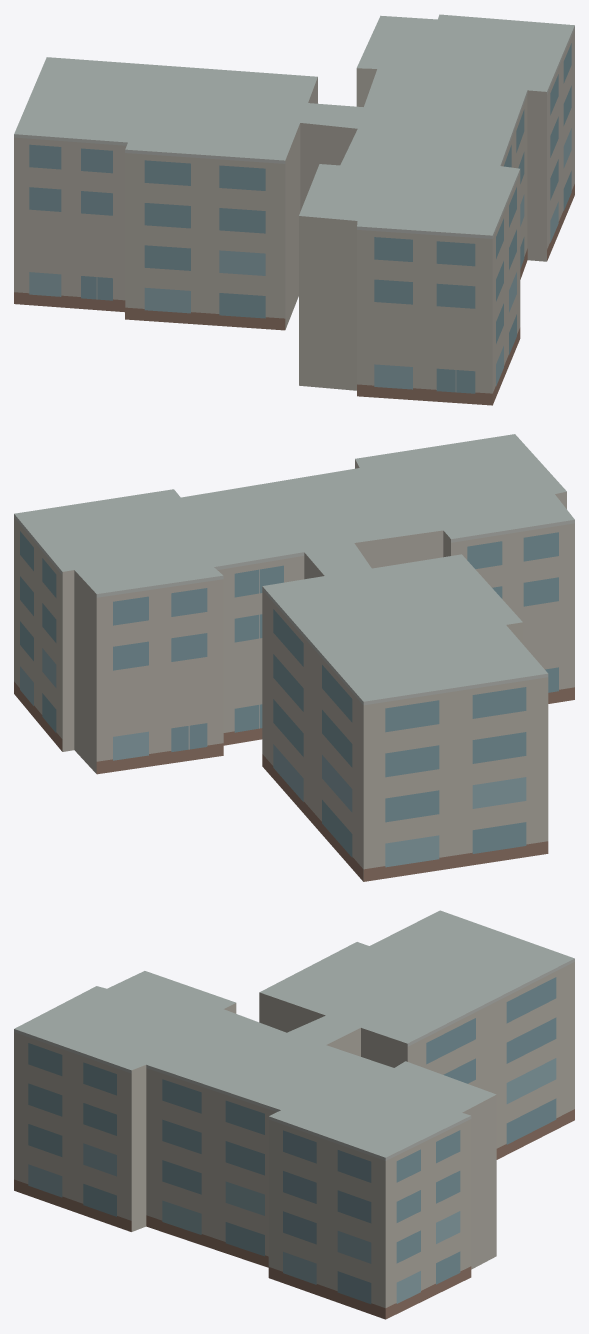
The model's file is survey-upis-33000182.glb.
3 renders of one model, top to bottom at view 1: azimuth 30°, elevation 25°; view 2: azimuth 150°, elevation 25°; view 3: azimuth 270°, elevation 25°, orthographic. The views are drawn at different scales.
Visible parts, largest first — view 1: survey-upis-33000182.tmp; view 2: survey-upis-33000182.tmp; view 3: survey-upis-33000182.tmp.
Boxes of the visible parts, x1,y1,x2,y2 form: survey-upis-33000182.tmp: (14,14,574,405); survey-upis-33000182.tmp: (14,434,574,881); survey-upis-33000182.tmp: (14,910,574,1319).
Size of the model in its own units: 40.02 by 12.2 by 38.34.
